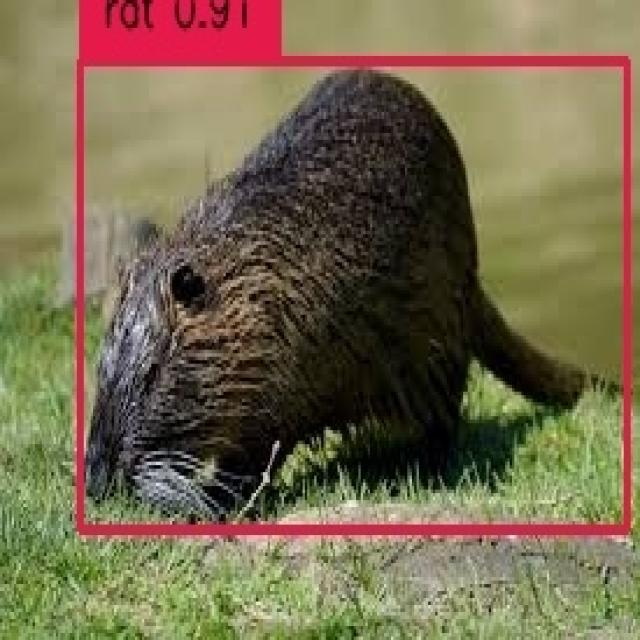rat: (77, 56, 624, 525)
